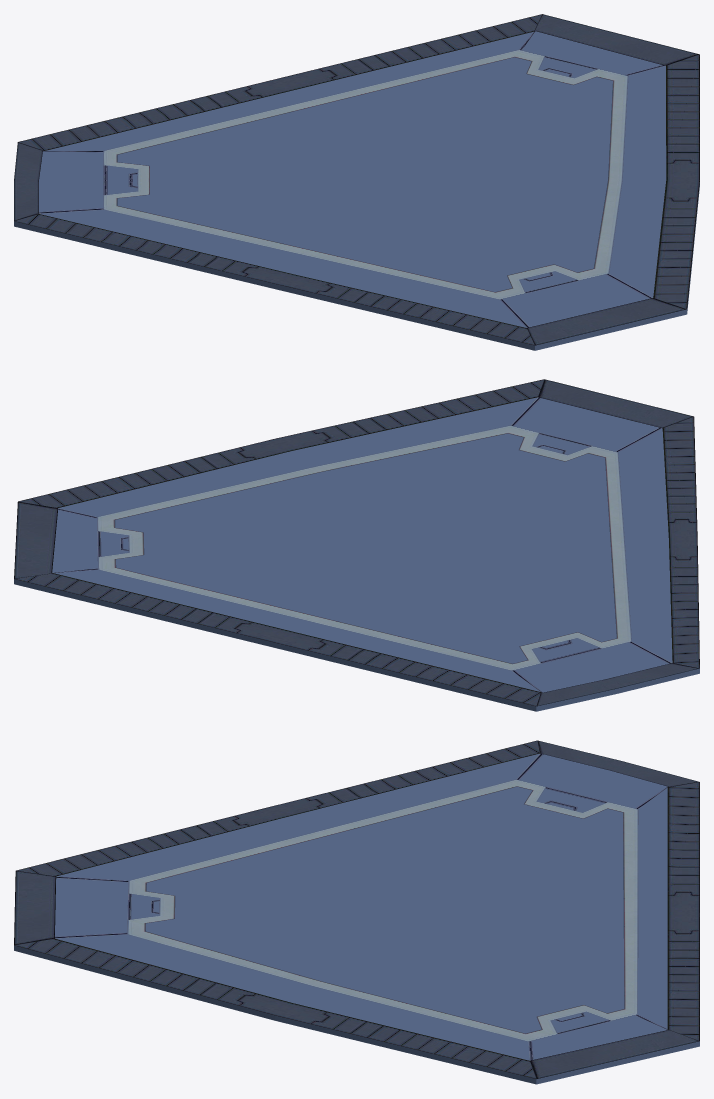
File: Prop_shengjiantai.FBX
3 views of the same model, one above another, from view 1: azimuth 30°, elevation 25°; view 2: azimuth 150°, elevation 25°; view 3: azimuth 270°, elevation 25° (orthographic).
Parts seen in each view (by area): view 1: Prop_shengjiantai; view 2: Prop_shengjiantai; view 3: Prop_shengjiantai.
Boxes of the visible parts, bbox=[...] form: Prop_shengjiantai: bbox=[14, 14, 699, 350]; Prop_shengjiantai: bbox=[14, 379, 699, 711]; Prop_shengjiantai: bbox=[14, 740, 699, 1084].
Bounding box in the file's own units: 16.35 × 0.1204 × 14.
2 materials, 2 textured.
